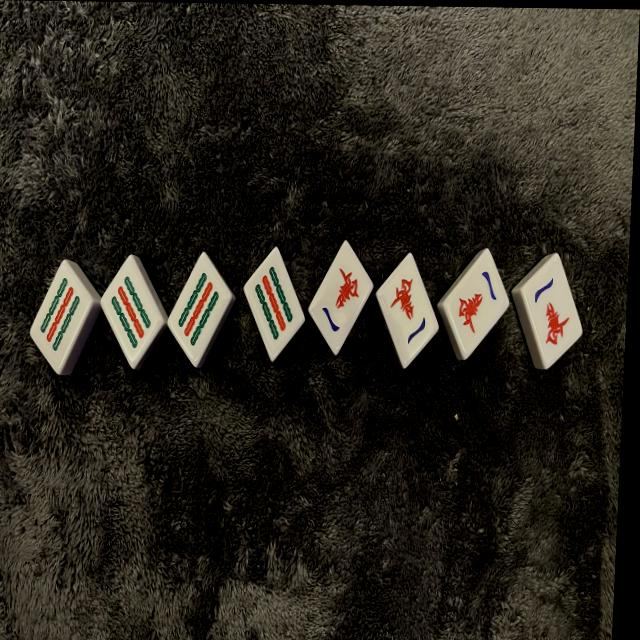m1: (304, 239, 376, 357), (516, 254, 588, 371), (380, 257, 437, 358), (447, 264, 505, 351)
s9: (164, 254, 234, 367), (96, 257, 167, 365), (239, 251, 308, 362), (27, 261, 94, 374)
